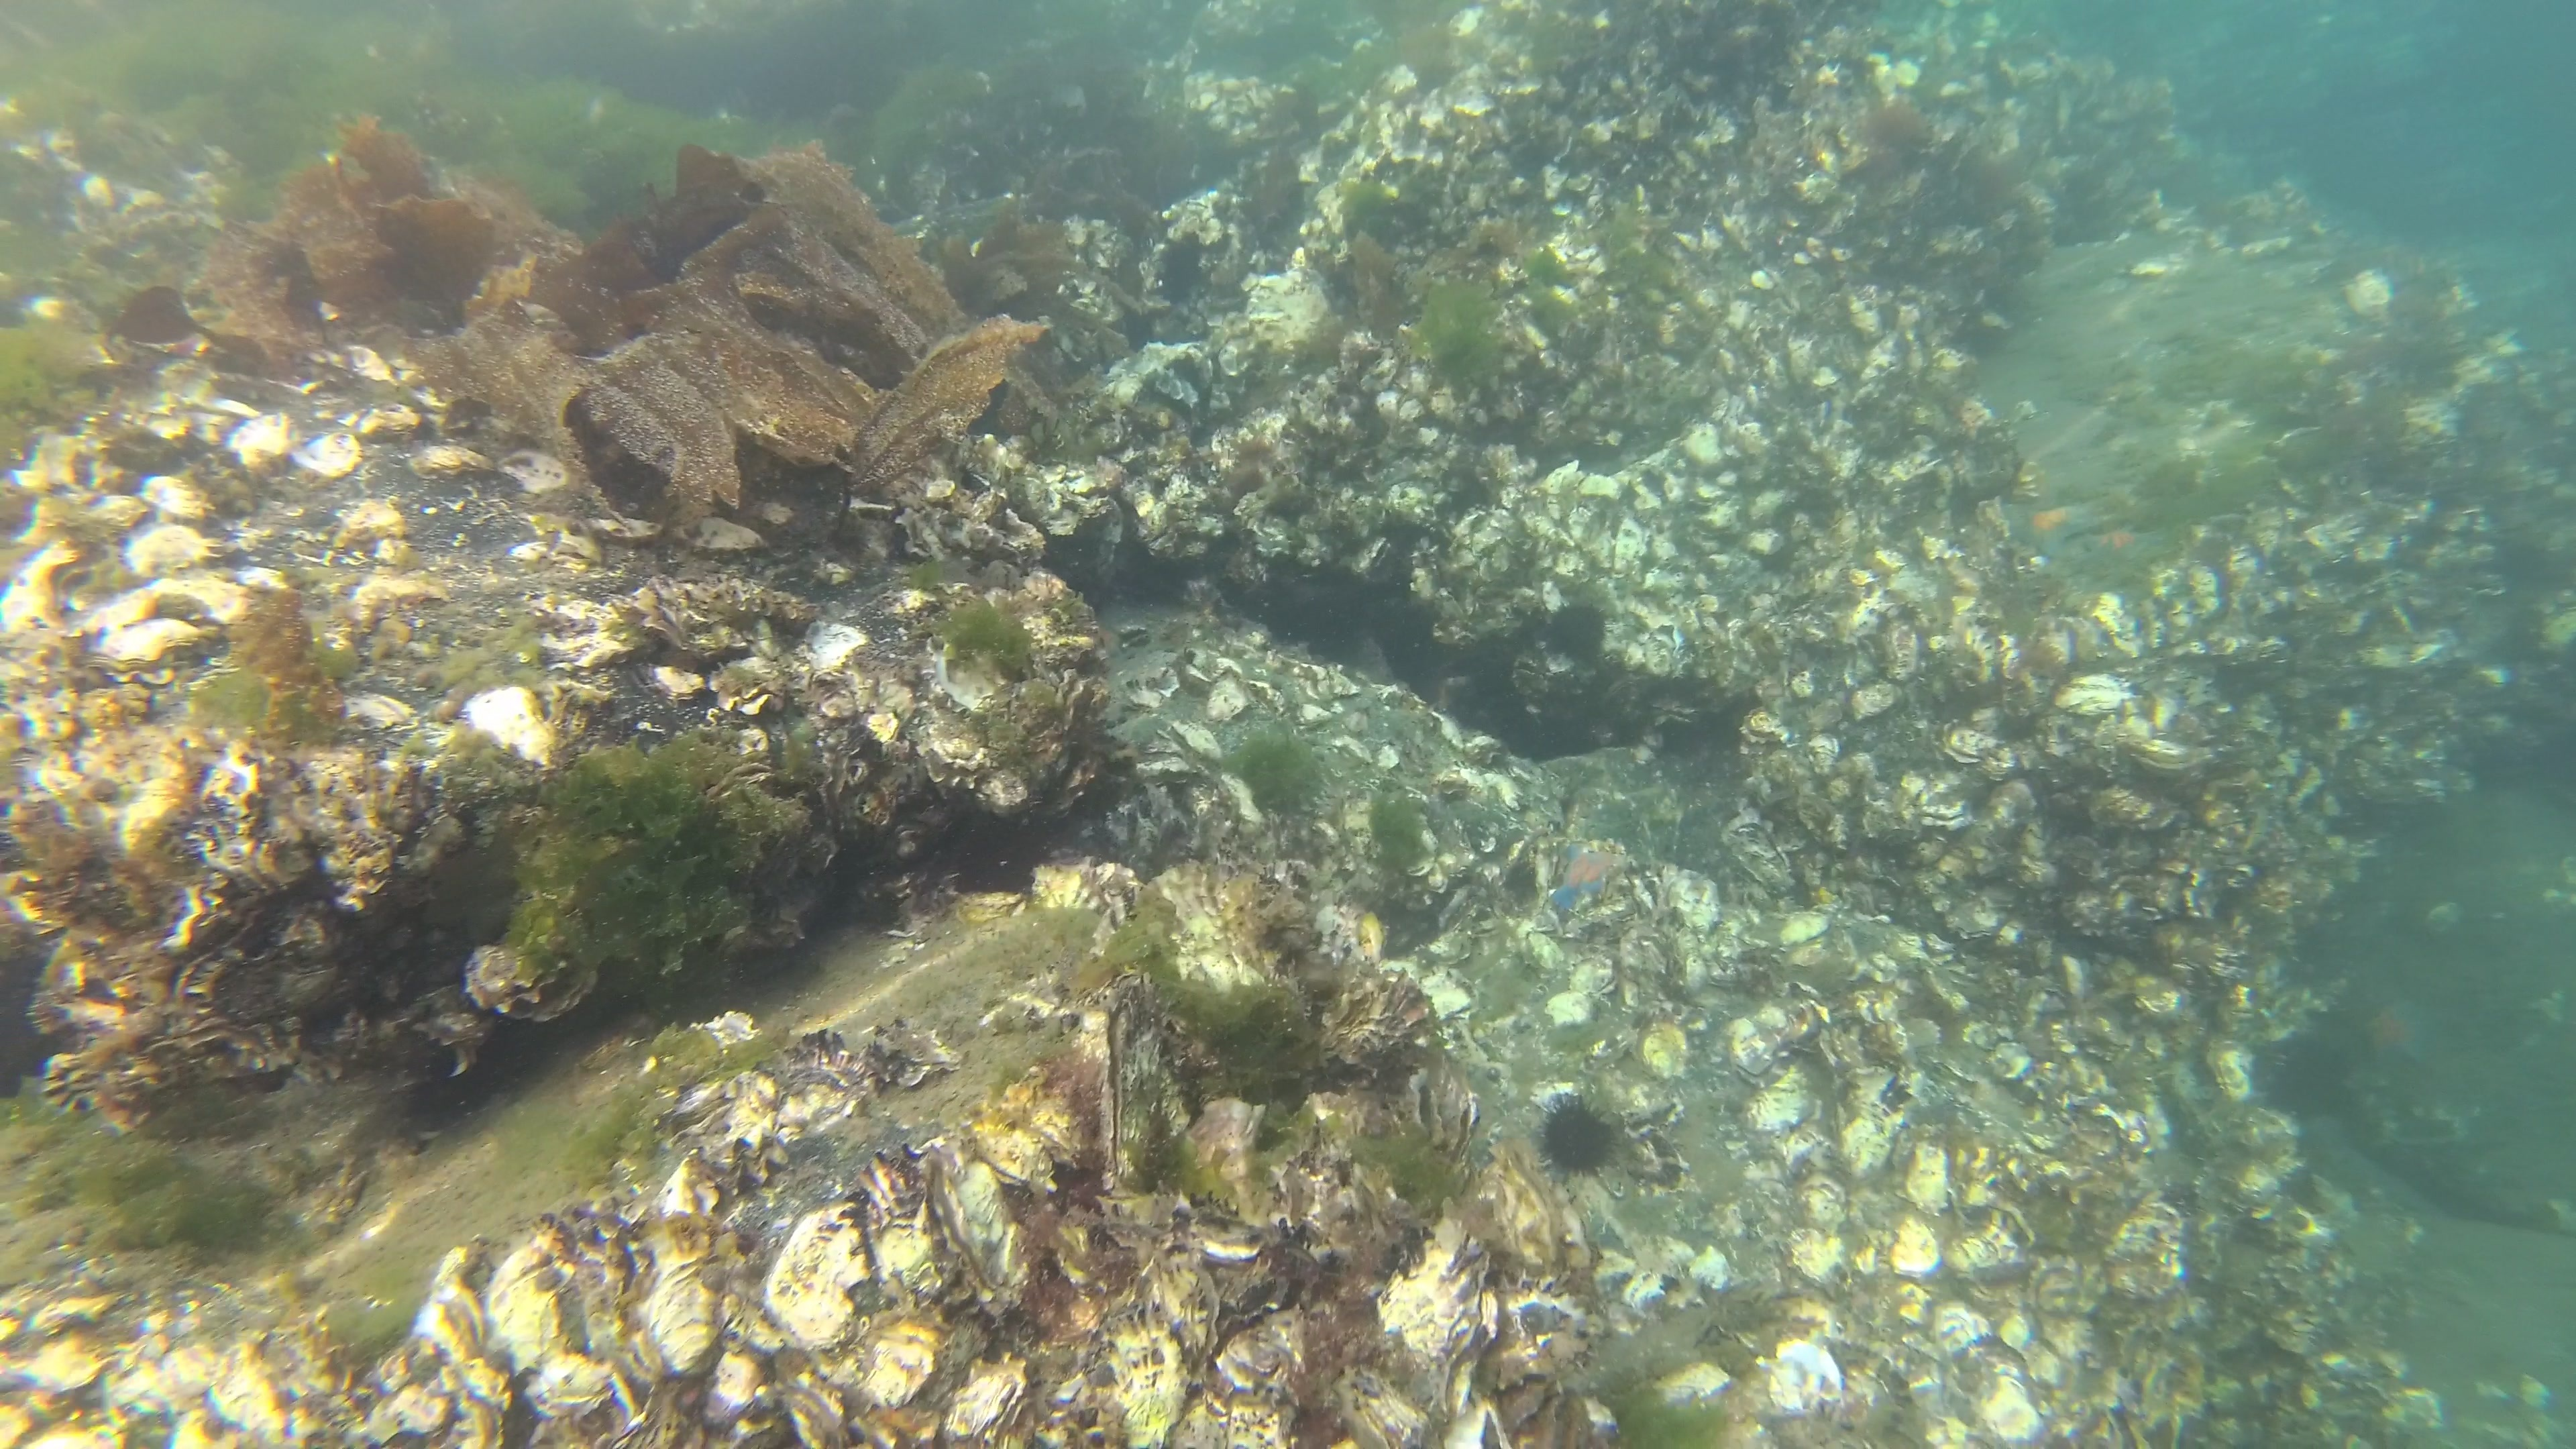echinus: (1530, 1099, 1624, 1187), (1546, 600, 1608, 663)
starfish: (2012, 495, 2116, 563), (2077, 529, 2176, 579), (2360, 1003, 2433, 1065), (1557, 844, 1621, 913)
